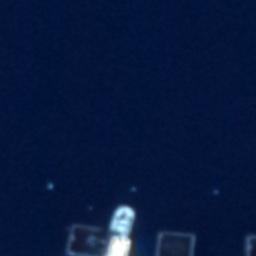square_cover: (64, 222, 111, 256), (153, 230, 204, 256)
